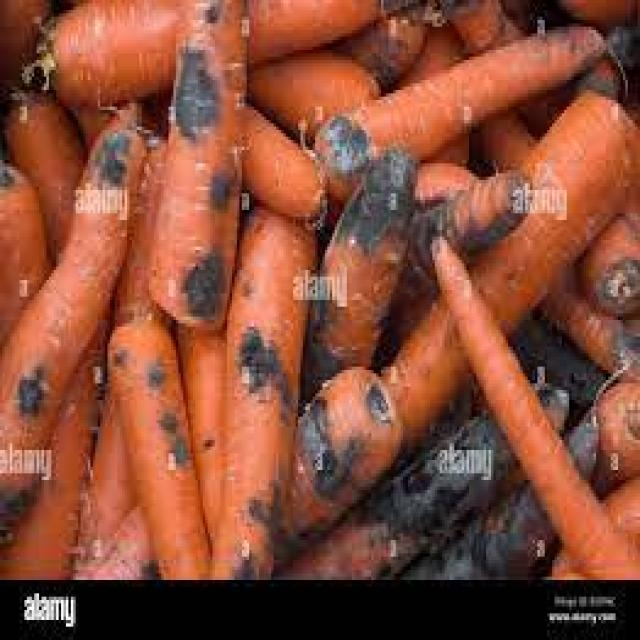Stale_Carrot: (274, 386, 573, 608), (286, 151, 426, 411), (136, 0, 235, 333)
